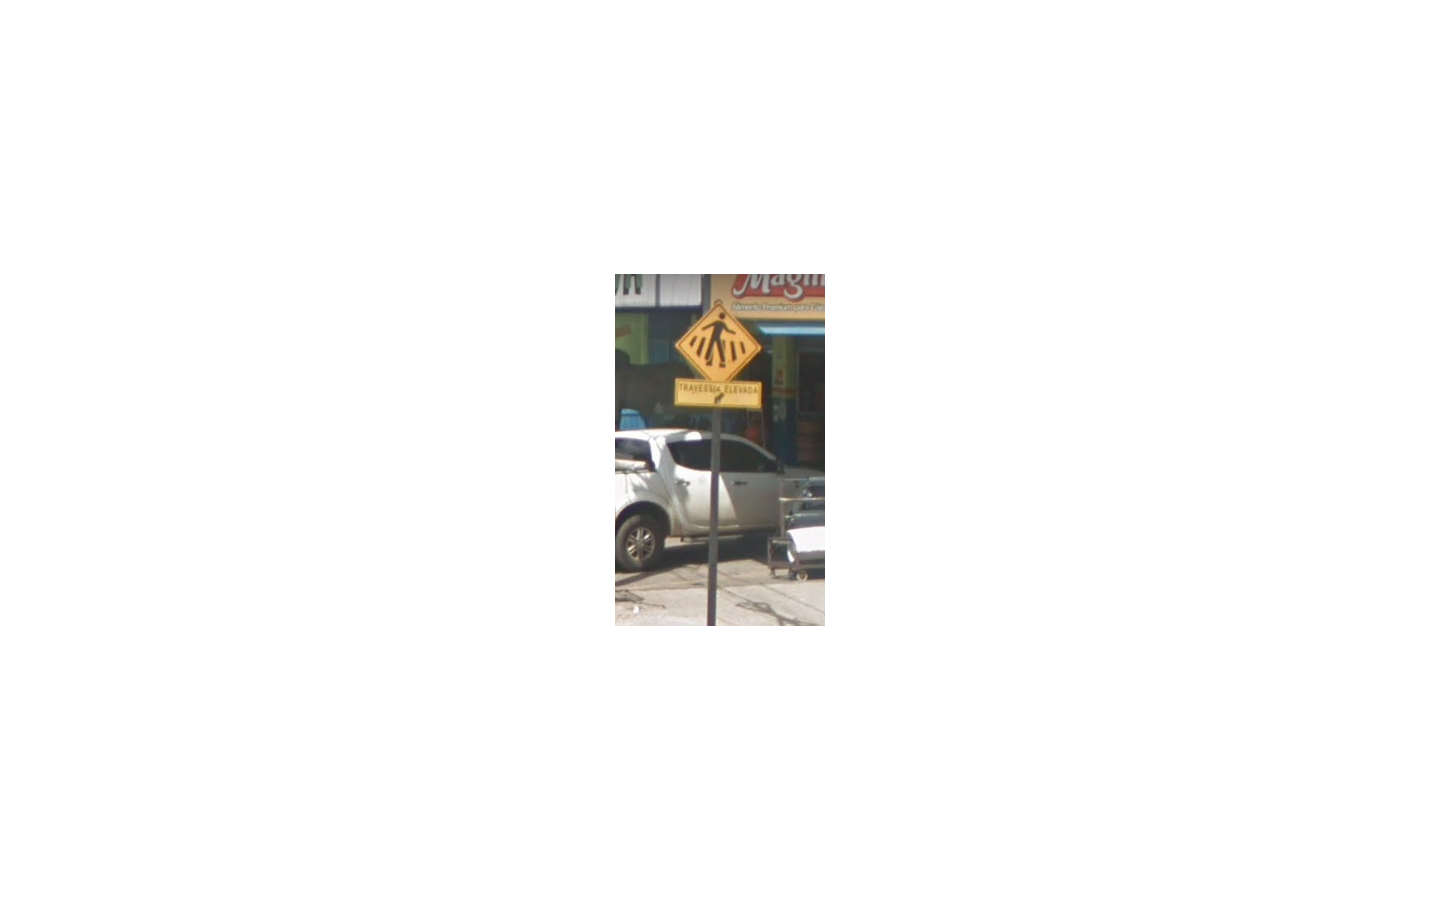telev: (674, 302, 762, 407)
